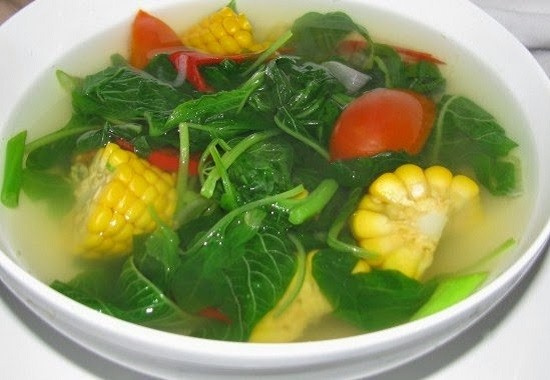Sayur Bayam: (1, 7, 519, 357)
